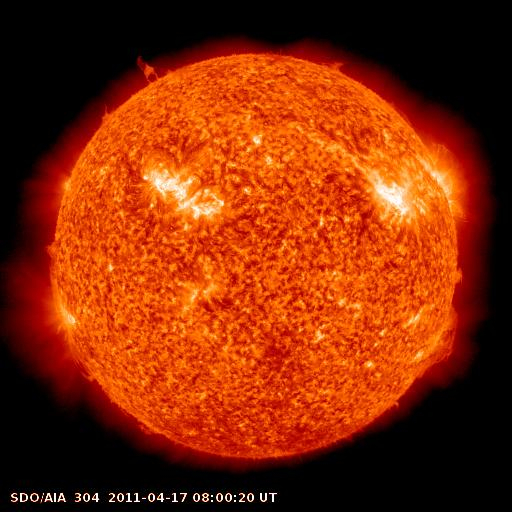prominence: (407, 262, 469, 385), (57, 329, 101, 391), (125, 47, 169, 87), (91, 99, 128, 132), (34, 235, 70, 263), (318, 51, 351, 81), (131, 416, 166, 440)
